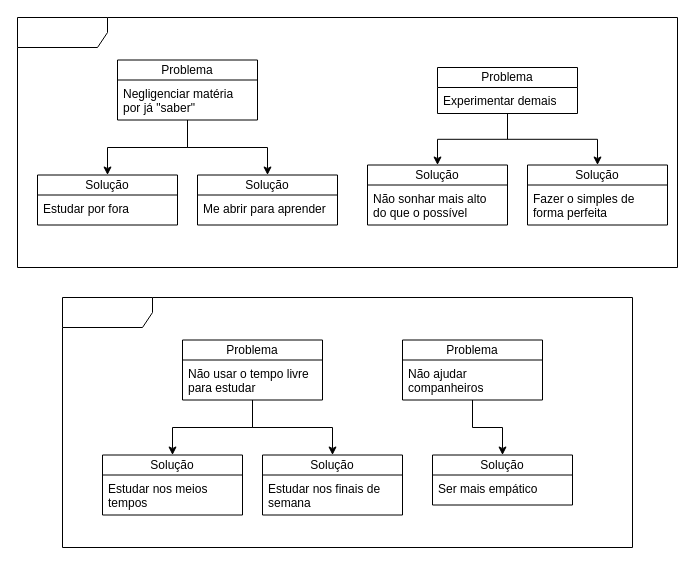
Some shapes in this 695 by 565 pixel diagram are drawn without their labels. Each missing label, with the box of its shape:
Faculdade: (16, 16, 678, 268)
Trabalho: (62, 296, 632, 548)
